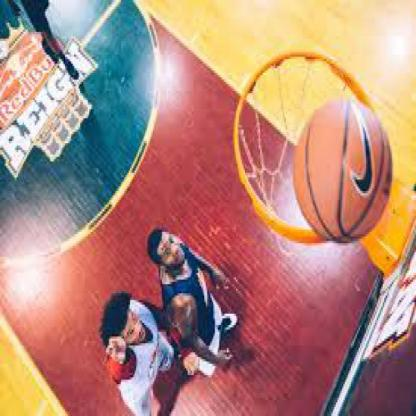basketball: (294, 100, 393, 241)
rim: (232, 50, 385, 248)
